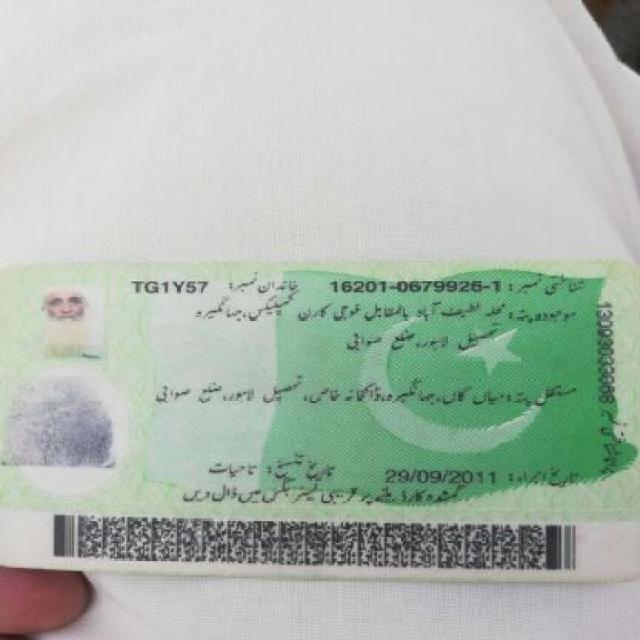Back: (11, 252, 634, 578)
